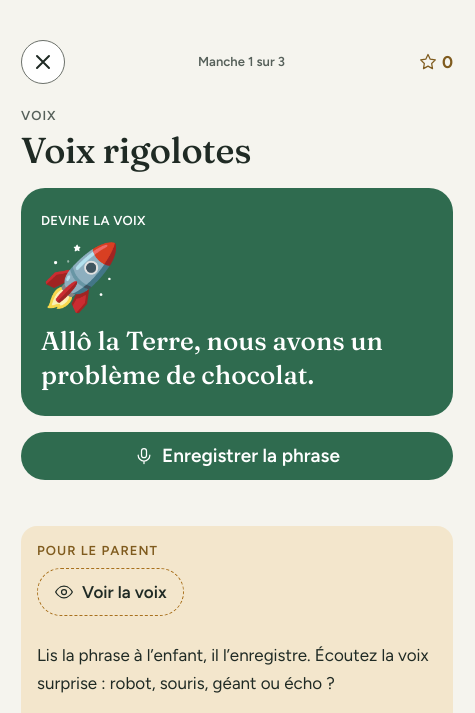
Test case: une partie avec le micro › enregistre, rejoue déformé par la sortie commune, puis oublie le son à la manche suivante
expect the text "Manche 1 sur 3" is shown: met, box x1=198 y1=53 x2=285 y2=71
expect the text "Devine la voix" is shown: met, box x1=41 y1=212 x2=146 y2=230
What coordinates should you click on to do the following:
click the button "Enregistrer la phrase"
I would click on:
 (237, 456)
Its box is x1=21 y1=432 x2=453 y2=480.
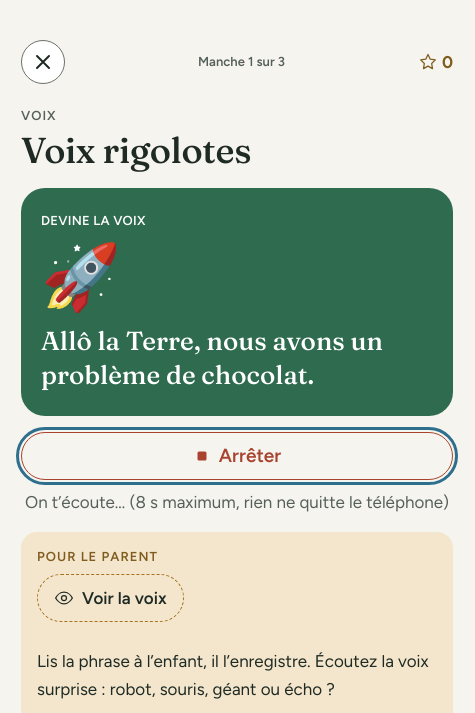
What coordinates should you click on to do the following:
click the button "Arrêter"
I would click on:
 (237, 456)
Its box is x1=21 y1=432 x2=453 y2=480.
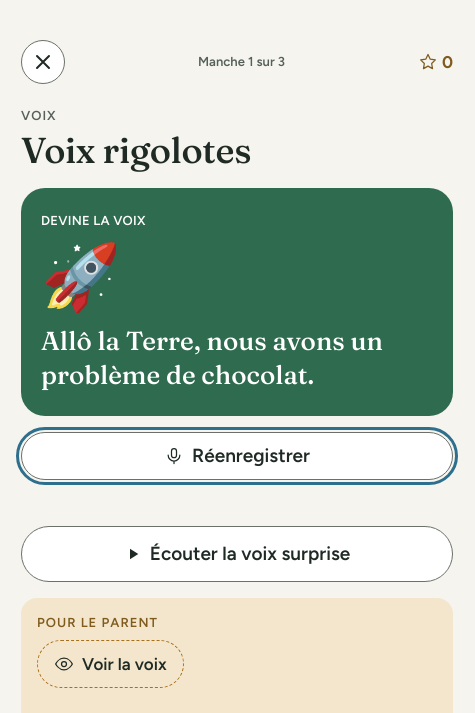
What coordinates should you click on to do the following:
click the button "Écouter la voix surprise"
I would click on:
 (237, 554)
Its box is x1=21 y1=526 x2=453 y2=582.
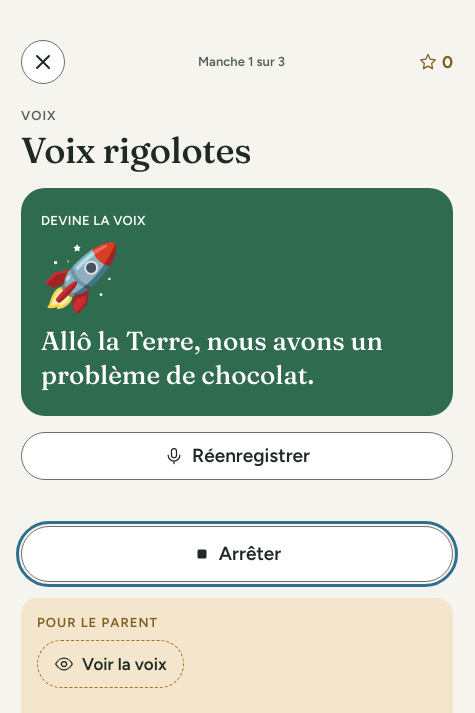
What coordinates should you click on to do the following:
click the button "Voir la voix"
I would click on:
 (110, 664)
Its box is x1=37 y1=640 x2=184 y2=688.
(page scrolled)
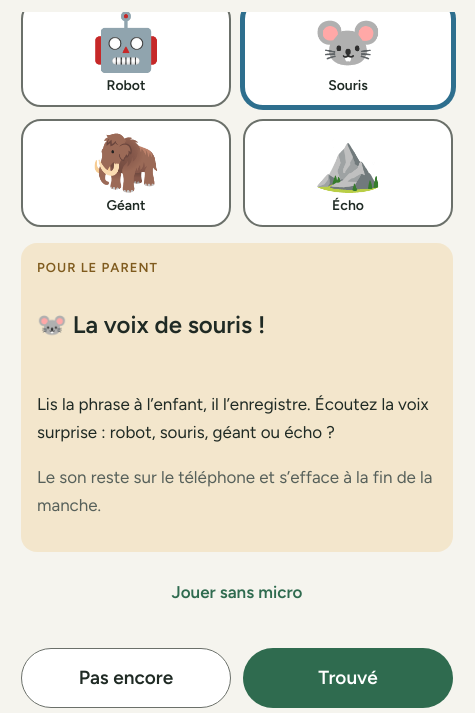
expect the element "Pour le parent" shows "La voix de souris !": met, box x1=21 y1=243 x2=453 y2=552
expect the element named "Réécouter avec une autre voix" is shown: met, box x1=21 y1=12 x2=453 y2=227
What coordinates should you click on to do the following:
click the button "Trouvé"
I would click on:
 (348, 678)
Its box is x1=243 y1=648 x2=453 y2=708.
(page scrolled)
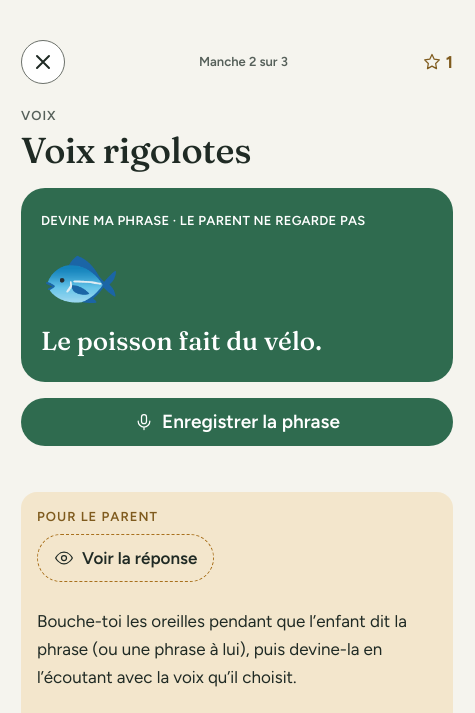
expect the text "Manche 2 sur 3" is shown: met, box x1=199 y1=53 x2=288 y2=71
expect the button "Enregistrer la phrase" is shown: met, box x1=21 y1=398 x2=453 y2=446
expect the element named "1 étoile" is shown: met, box x1=422 y1=48 x2=453 y2=76
